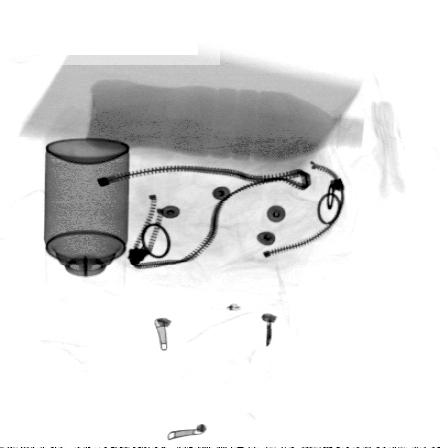Sprayer: (42, 136, 132, 303)
